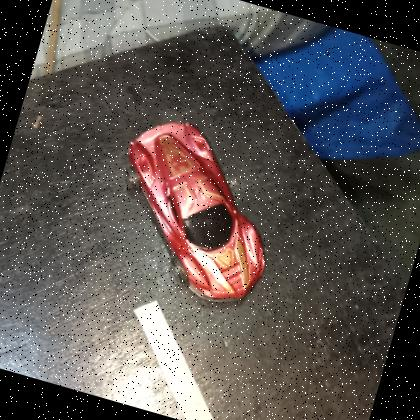Car: (93, 106, 299, 316)
